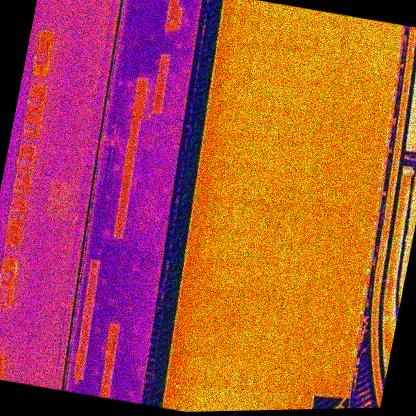Diode: (376, 94, 394, 128), (368, 153, 386, 187), (355, 246, 373, 280), (346, 306, 363, 342), (380, 64, 398, 97), (386, 34, 403, 67), (340, 339, 358, 368), (336, 367, 352, 399)
Hotspot: (333, 305, 352, 341), (348, 213, 367, 247), (333, 58, 353, 89), (218, 13, 236, 47), (372, 124, 390, 157), (326, 25, 344, 58), (360, 215, 377, 249), (364, 186, 381, 218), (162, 382, 179, 409), (272, 391, 291, 410), (284, 391, 302, 410), (260, 389, 276, 410)
Normal: (176, 352, 198, 386), (354, 88, 374, 124), (205, 164, 225, 200), (274, 204, 294, 240), (238, 200, 258, 236), (213, 198, 233, 234), (245, 234, 266, 268), (301, 21, 322, 55), (201, 354, 222, 388), (254, 171, 274, 206), (290, 269, 310, 304), (240, 264, 260, 299), (254, 328, 275, 361), (264, 109, 283, 145), (322, 302, 341, 338), (336, 118, 356, 152), (324, 117, 344, 151), (344, 150, 364, 184), (271, 142, 291, 176), (292, 176, 312, 210), (242, 170, 262, 204), (194, 164, 214, 198), (236, 296, 256, 330), (240, 14, 260, 48), (244, 327, 264, 361), (194, 322, 214, 356), (189, 353, 209, 387), (330, 85, 349, 120), (313, 114, 332, 149), (215, 103, 234, 138), (226, 199, 245, 234), (201, 197, 220, 232), (314, 271, 333, 306), (228, 262, 247, 297), (216, 261, 235, 296), (278, 17, 297, 52), (342, 88, 362, 121), (280, 80, 300, 113), (232, 75, 252, 108), (300, 114, 320, 147), (352, 183, 372, 216), (340, 182, 360, 215), (316, 178, 336, 211), (324, 211, 344, 244), (270, 237, 290, 270), (184, 227, 204, 260), (302, 271, 322, 304), (260, 298, 280, 331), (224, 295, 244, 328), (280, 331, 300, 364), (165, 351, 185, 384), (312, 208, 330, 244), (251, 108, 270, 142), (357, 152, 376, 186), (211, 134, 230, 168), (230, 168, 249, 202), (218, 167, 237, 201), (258, 235, 277, 269), (327, 272, 346, 306), (292, 332, 311, 366), (214, 356, 234, 388), (236, 137, 254, 172), (288, 206, 306, 241), (291, 18, 309, 53), (175, 288, 193, 323), (228, 106, 247, 139), (203, 103, 222, 136), (297, 145, 316, 178), (328, 180, 347, 213), (336, 213, 355, 246), (263, 204, 282, 237), (343, 244, 362, 277), (295, 239, 314, 272), (235, 232, 254, 265), (209, 229, 228, 262), (362, 30, 381, 63), (278, 269, 297, 302), (204, 261, 223, 294), (285, 300, 304, 333), (273, 300, 292, 333), (249, 297, 268, 330), (187, 290, 206, 323), (207, 323, 226, 356), (298, 52, 317, 85), (261, 47, 280, 80), (249, 46, 268, 79), (236, 46, 256, 77), (366, 92, 384, 126), (334, 149, 352, 183), (310, 146, 328, 180), (248, 140, 266, 174), (280, 174, 298, 208), (190, 195, 208, 229), (320, 240, 338, 274), (374, 30, 392, 64), (266, 267, 284, 301), (254, 265, 272, 299), (192, 259, 210, 293), (298, 301, 316, 335), (220, 325, 238, 359), (322, 54, 340, 88), (223, 137, 242, 169), (304, 178, 323, 210), (197, 229, 216, 261), (274, 50, 293, 82), (306, 83, 324, 116), (294, 82, 312, 115), (269, 79, 287, 112), (256, 78, 274, 111), (244, 77, 262, 110), (289, 113, 307, 146), (276, 111, 294, 144), (240, 107, 258, 140), (322, 148, 340, 181), (285, 143, 303, 176), (199, 133, 217, 166), (251, 204, 269, 237), (332, 243, 350, 276), (308, 240, 326, 273), (284, 238, 302, 271), (222, 231, 240, 264), (350, 27, 368, 60), (350, 276, 368, 309), (310, 303, 328, 336), (254, 16, 272, 49), (212, 293, 230, 326), (200, 291, 218, 324), (305, 334, 323, 367), (172, 320, 190, 353), (264, 360, 282, 393), (240, 358, 258, 391), (370, 62, 388, 95), (232, 327, 251, 358), (183, 323, 202, 354), (301, 208, 318, 242), (220, 75, 238, 107), (350, 121, 368, 153), (260, 142, 278, 174), (268, 174, 286, 206), (338, 27, 356, 59), (340, 275, 358, 307), (180, 258, 198, 290), (266, 18, 284, 50), (230, 14, 248, 46), (313, 363, 331, 395), (288, 362, 306, 394), (252, 359, 270, 391), (228, 357, 246, 389), (311, 54, 329, 86), (286, 51, 304, 83), (224, 45, 242, 77), (361, 123, 379, 154), (318, 336, 336, 367), (268, 331, 286, 362), (301, 363, 319, 394), (347, 58, 365, 89), (358, 61, 376, 92), (318, 85, 335, 117), (209, 72, 226, 104), (315, 24, 332, 56), (277, 361, 294, 393), (325, 365, 342, 396), (330, 339, 348, 368), (214, 43, 230, 75), (186, 383, 204, 411), (174, 382, 192, 410), (198, 384, 215, 412), (211, 386, 228, 411), (223, 387, 240, 411), (235, 388, 252, 411), (247, 389, 264, 411), (295, 391, 313, 409)
